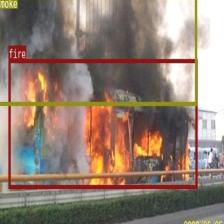fire: (8, 59, 197, 188)
smoke: (0, 0, 197, 105)
